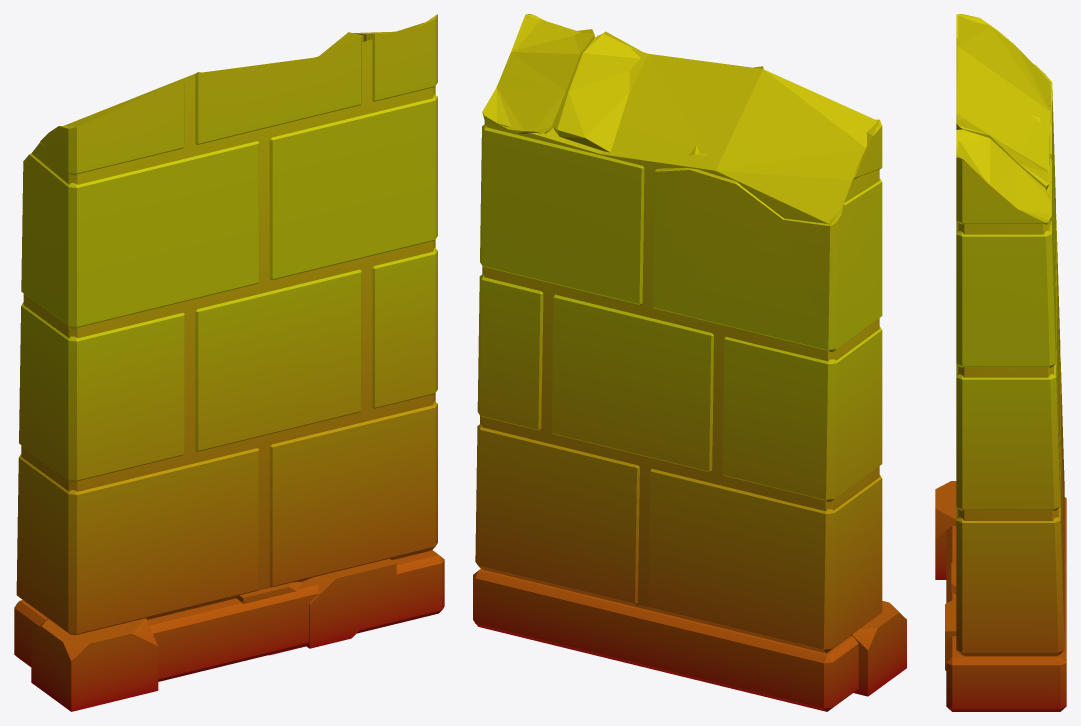
File: wall_broken.glb
3 renders of one model, left to right at view 1: azimuth 30°, elevation 25°; view 2: azimuth 150°, elevation 25°; view 3: azimuth 270°, elevation 25°, orthographic. The views are drawn at different scales.
Visible parts, largest first — view 1: wall_broken; view 2: wall_broken; view 3: wall_broken.
Boxes of the visible parts, x1,y1,x2,y2 form: wall_broken: [14, 14, 444, 711]; wall_broken: [473, 14, 906, 711]; wall_broken: [935, 14, 1066, 711].
Size of what is drawn, in the model's own units: 2.05 by 3.07 by 0.6535.
